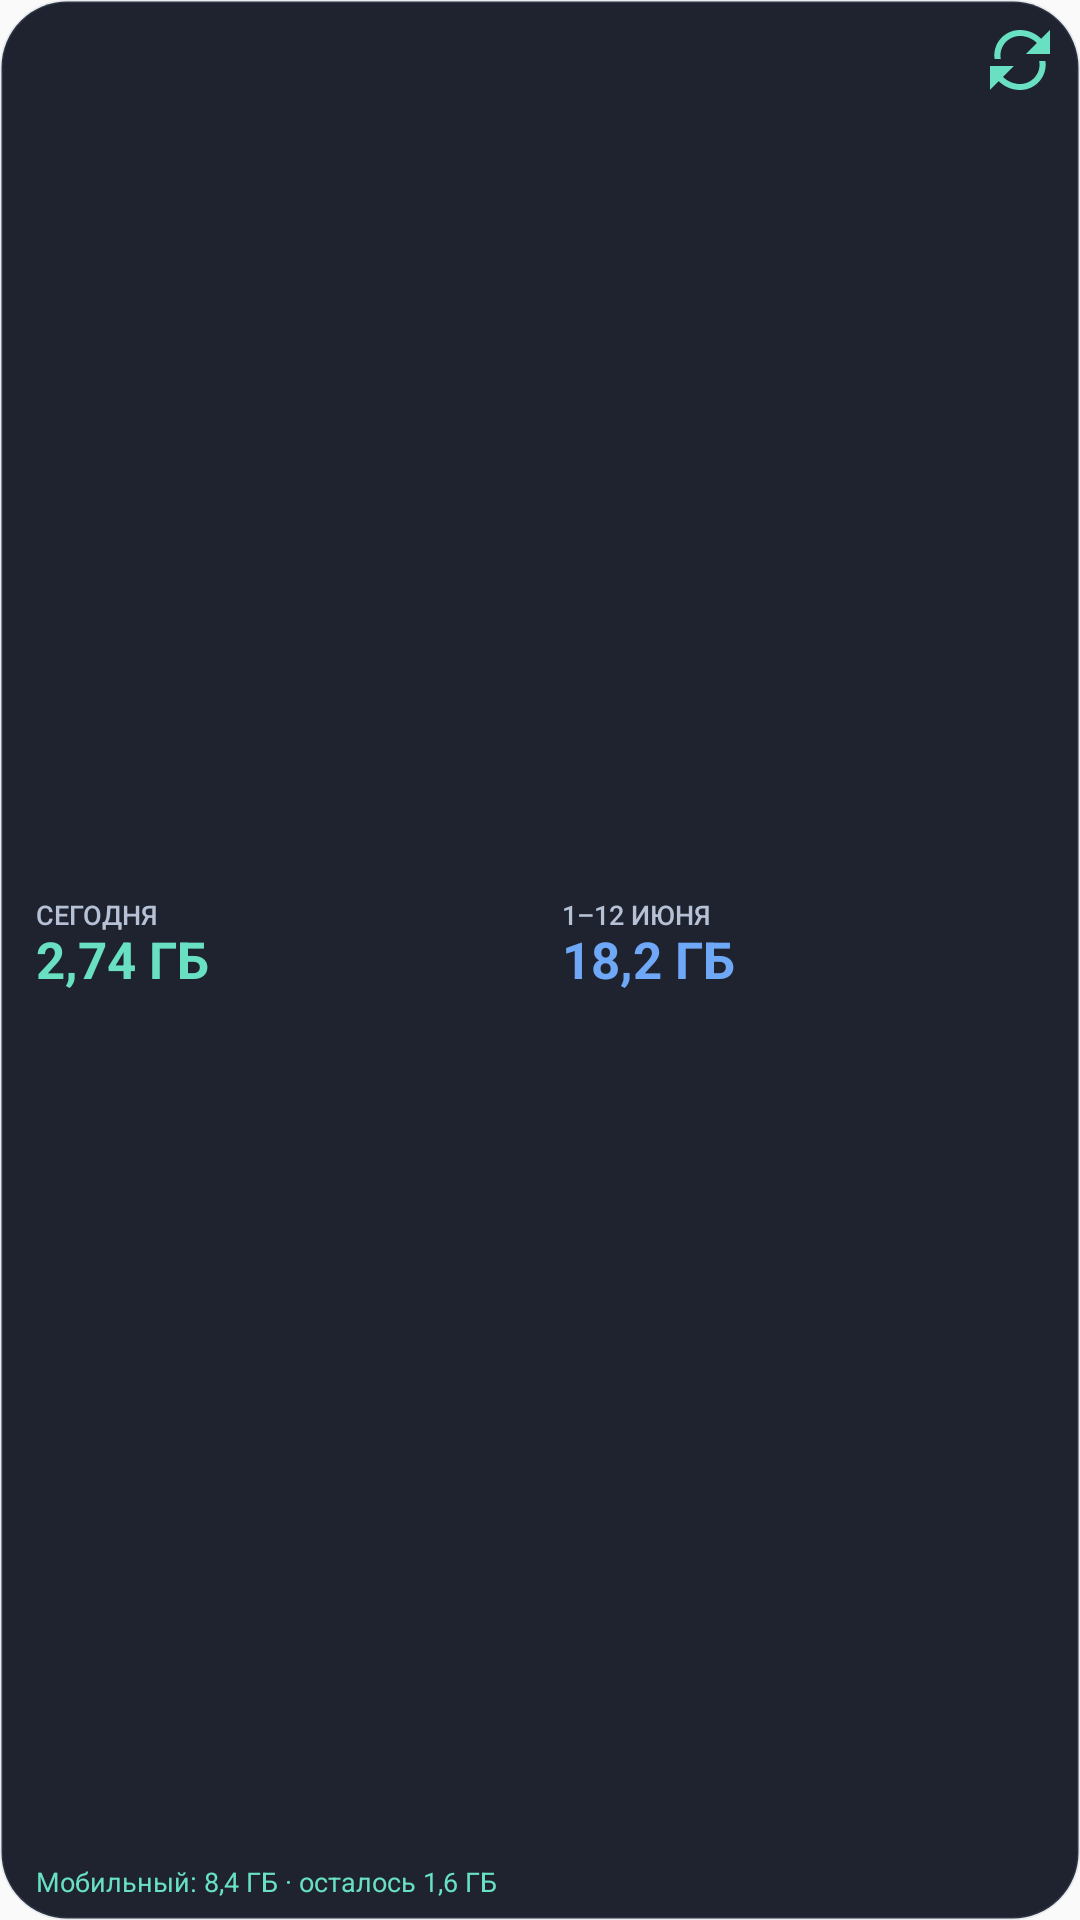

Screen size 1080*1920. Icon name, then its box in pixels as box=[x1, y1, x2, y2]:
Обновить статистику: box=[990, 30, 1050, 90]
